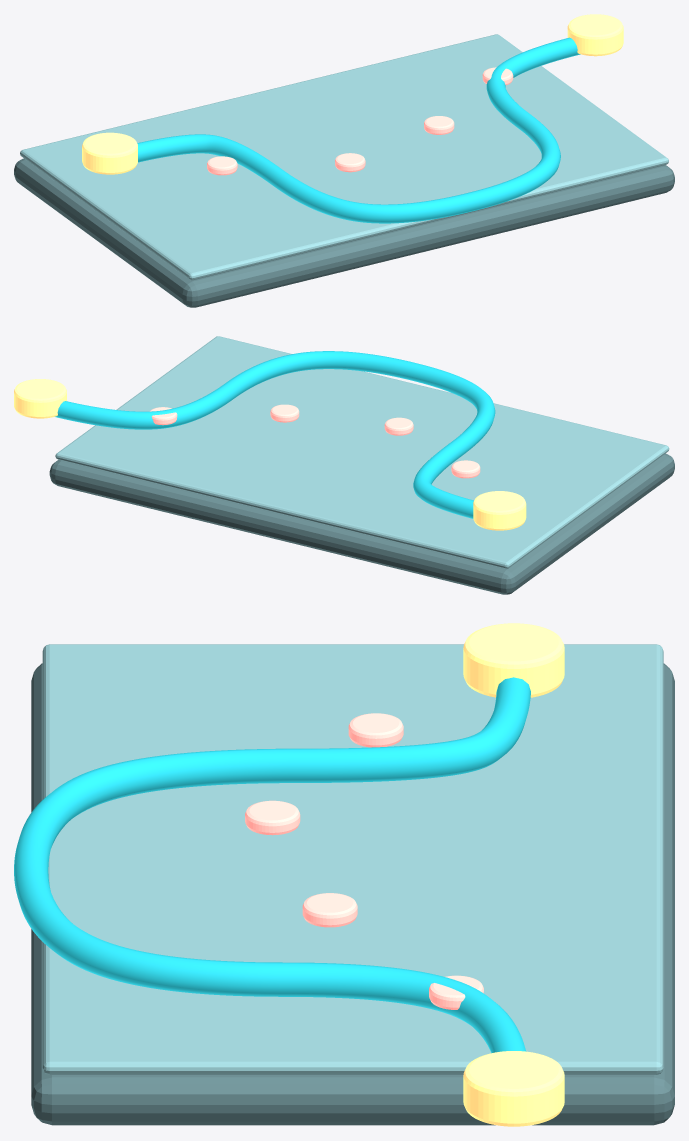
Rendered from microfluidic_chip.glb.
3 views of the same model, one above another, from view 1: azimuth 30°, elevation 25°; view 2: azimuth 150°, elevation 25°; view 3: azimuth 270°, elevation 25° (orthographic). The views are drawn at different scales.
Parts seen in each view (by area): view 1: MICROCHIP_GLASS_COVER, MICROCHIP_SUBSTRATE, MICROCHIP_CHANNEL_SERPENTINE, MICROCHIP_PORT_1, MICROCHIP_PORT_2, MICROCHIP_WELL_01, MICROCHIP_WELL_02, MICROCHIP_WELL_03; view 2: MICROCHIP_GLASS_COVER, MICROCHIP_SUBSTRATE, MICROCHIP_CHANNEL_SERPENTINE, MICROCHIP_PORT_1, MICROCHIP_PORT_2, MICROCHIP_WELL_03, MICROCHIP_WELL_02, MICROCHIP_WELL_01; view 3: MICROCHIP_GLASS_COVER, MICROCHIP_CHANNEL_SERPENTINE, MICROCHIP_SUBSTRATE, MICROCHIP_PORT_2, MICROCHIP_PORT_1, MICROCHIP_WELL_01, MICROCHIP_WELL_02, MICROCHIP_WELL_03, MICROCHIP_WELL_04.
Boxes of the visible parts, bbox=[...] form: MICROCHIP_GLASS_COVER: bbox=[20, 34, 668, 280]; MICROCHIP_SUBSTRATE: bbox=[14, 158, 674, 307]; MICROCHIP_CHANNEL_SERPENTINE: bbox=[137, 37, 580, 223]; MICROCHIP_PORT_1: bbox=[82, 132, 137, 174]; MICROCHIP_PORT_2: bbox=[567, 14, 623, 56]; MICROCHIP_WELL_01: bbox=[207, 156, 237, 175]; MICROCHIP_WELL_02: bbox=[335, 153, 365, 172]; MICROCHIP_WELL_03: bbox=[424, 116, 454, 134]; MICROCHIP_GLASS_COVER: bbox=[55, 336, 669, 568]; MICROCHIP_SUBSTRATE: bbox=[49, 453, 674, 594]; MICROCHIP_CHANNEL_SERPENTINE: bbox=[55, 351, 495, 518]; MICROCHIP_PORT_1: bbox=[473, 491, 526, 530]; MICROCHIP_PORT_2: bbox=[14, 379, 66, 418]; MICROCHIP_WELL_03: bbox=[270, 404, 299, 422]; MICROCHIP_WELL_02: bbox=[384, 417, 413, 435]; MICROCHIP_WELL_01: bbox=[451, 460, 480, 478]; MICROCHIP_GLASS_COVER: bbox=[42, 644, 663, 1074]; MICROCHIP_CHANNEL_SERPENTINE: bbox=[14, 677, 530, 1053]; MICROCHIP_SUBSTRATE: bbox=[31, 663, 674, 1125]; MICROCHIP_PORT_2: bbox=[463, 1051, 564, 1126]; MICROCHIP_PORT_1: bbox=[463, 623, 564, 697]; MICROCHIP_WELL_01: bbox=[348, 713, 403, 747]; MICROCHIP_WELL_02: bbox=[245, 800, 300, 835]; MICROCHIP_WELL_03: bbox=[302, 893, 357, 927]; MICROCHIP_WELL_04: bbox=[429, 975, 483, 1009].
Size of the model in its own units: 5.12 by 0.51 by 2.87.
